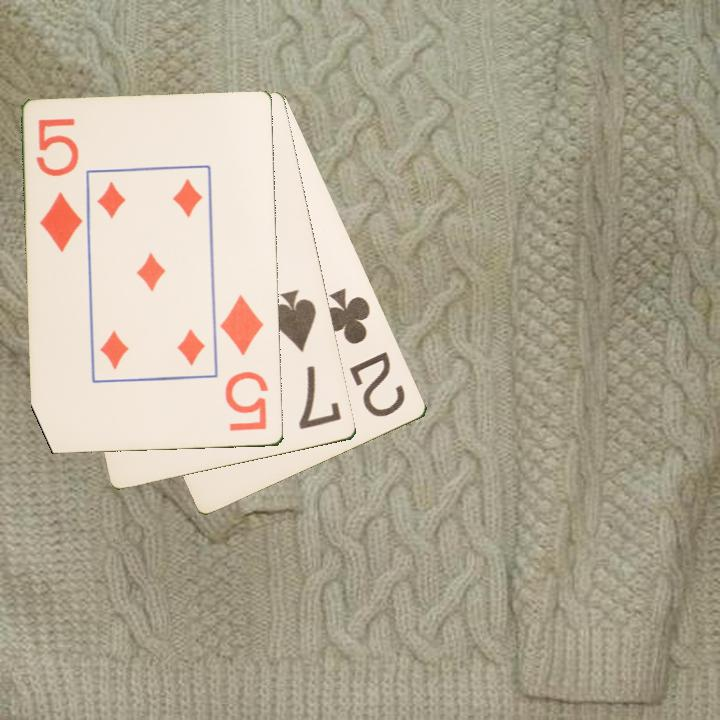2c: (319, 284, 409, 421)
5d: (217, 291, 272, 434), (32, 115, 86, 255)
7s: (269, 286, 345, 433)
